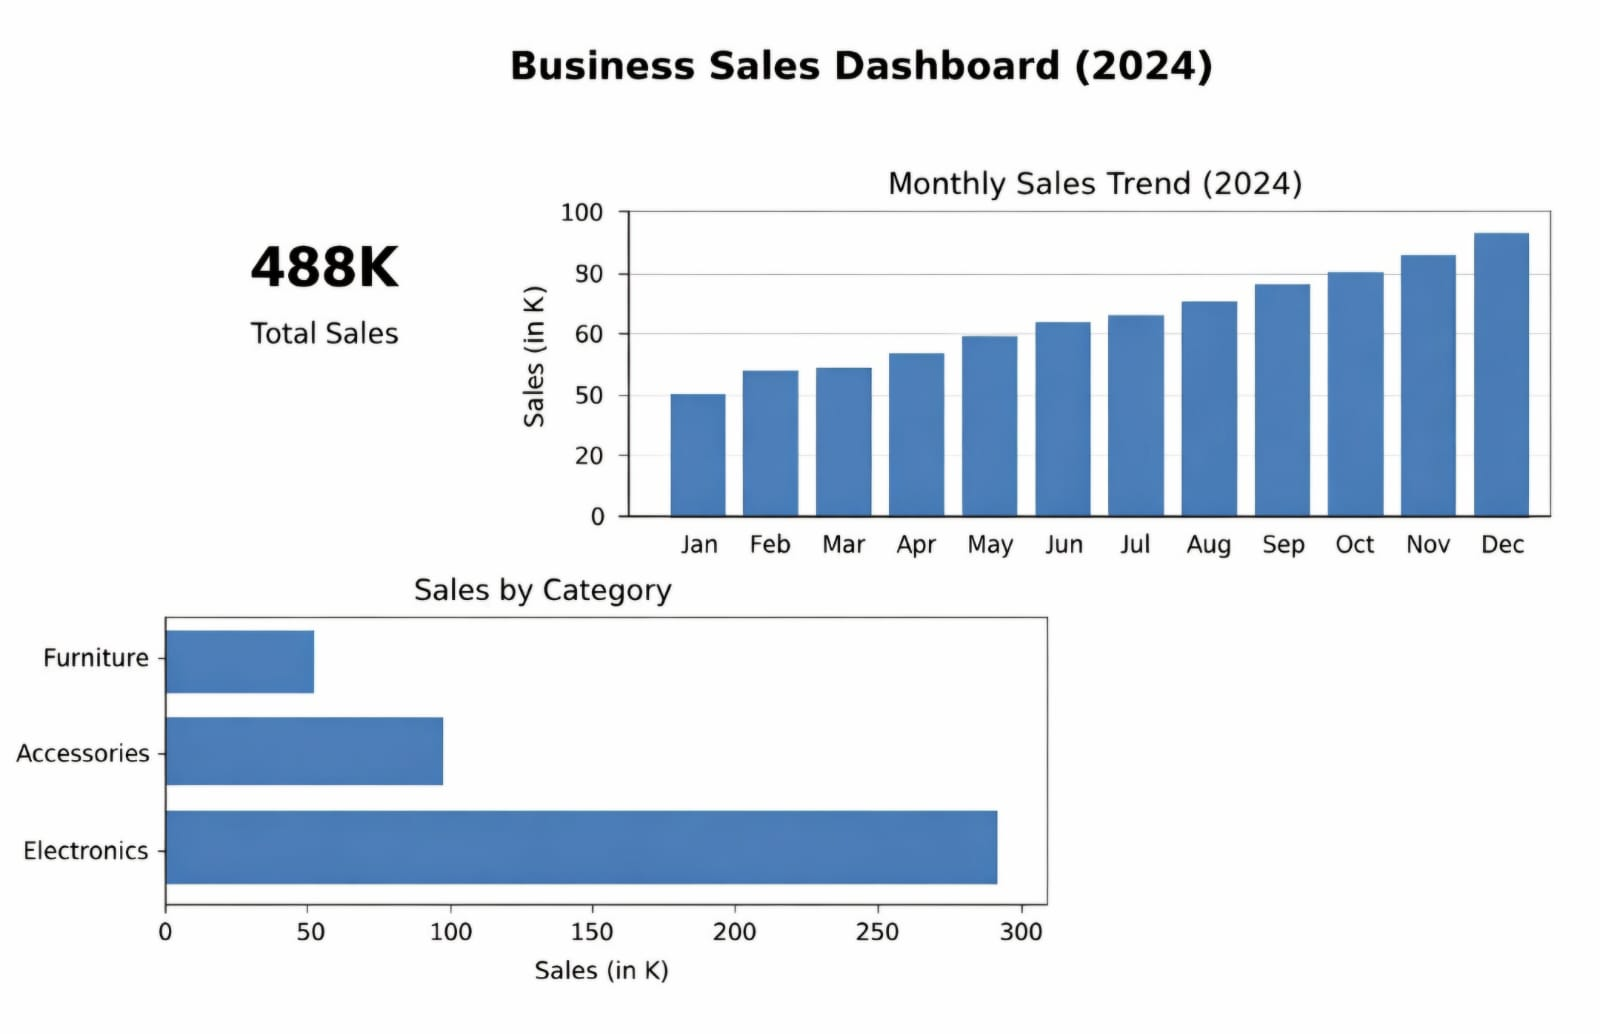

Layout of this report page (visuals, bound fields, positions):
{"tool":"powerbi","page":{"name":"Page 1","canvas":[1280,720],"ordinal":0},"visuals":[{"type":"card","fields":{"Values":["Sum(Sheet1.Sales)"]},"box":[78.8,47.5,400.9,299],"z":0},{"type":"barChart","fields":{"Y":["Sum(Sheet1.Sales)"],"Category":["Sheet1.Category"]},"box":[79,357,401,299],"z":1},{"type":"lineChart","fields":{"Category":["Sheet1.Order_Date.Variation.Date Hierarchy.Year","Sheet1.Order_Date.Variation.Date Hierarchy.Quarter","Sheet1.Order_Date.Variation.Date Hierarchy.Month","Sheet1.Order_Date.Variation.Date Hierarchy.Day"],"Y":["Sum(Sheet1.Sales)"]},"box":[490,48,401,299],"z":2}]}

Visuals, with their boxes on the page's 1280x720 design canvas (x1, y1, x2, y2). These are canvas units, not pixel positions in the 1600x1034 screenshot, which may show the page scaled, cropped or inside an application window:
card - Sum(Sheet1.Sales): x1=79, y1=48, x2=480, y2=346
barChart - Sum(Sheet1.Sales) x Sheet1.Category: x1=79, y1=357, x2=480, y2=656
lineChart - Sheet1.Order_Date.Variation.Date Hierarchy.Year x Sheet1.Order_Date.Variation.Date Hierarchy.Quarter: x1=490, y1=48, x2=891, y2=347
